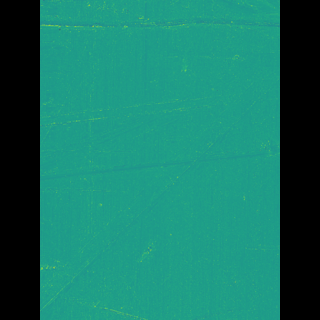Loch: (69, 94, 231, 318), (69, 137, 250, 191), (68, 90, 207, 129), (70, 9, 250, 37)
